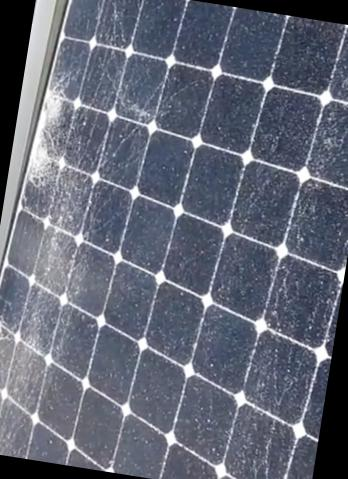Crack: (32, 84, 78, 142), (24, 142, 67, 194), (0, 303, 17, 391)
